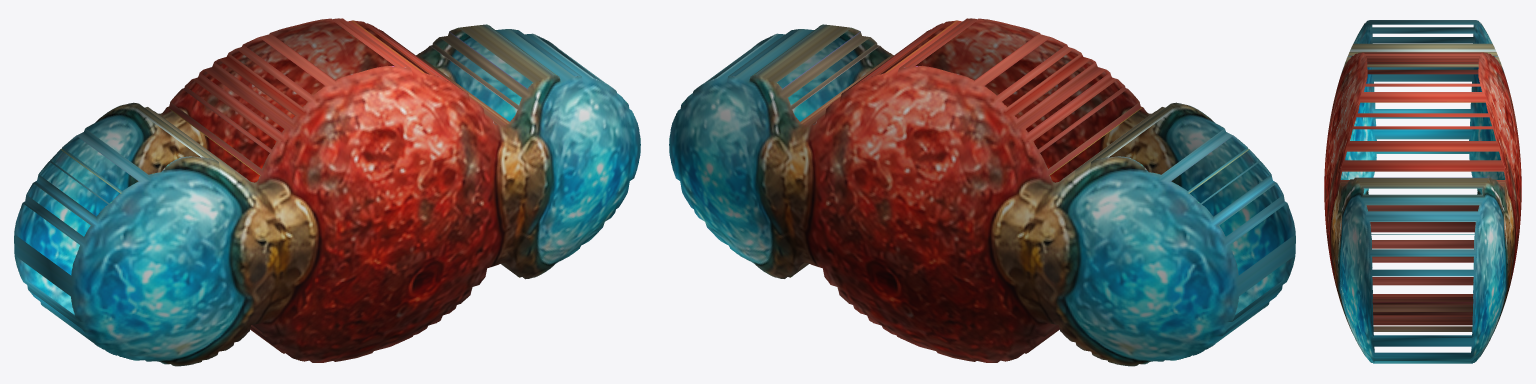
3 views of the same model, side by side, from view 1: azimuth 30°, elevation 25°; view 2: azimuth 150°, elevation 25°; view 3: azimuth 270°, elevation 25° (orthographic). The views are drawn at different scales.
Parts seen in each view (by area): view 1: matter:2; view 2: matter:2; view 3: matter:2.
Part boxes in pixels (<box>): matter:2: <box>14,18,640,366</box>; matter:2: <box>669,18,1295,366</box>; matter:2: <box>1324,20,1521,363</box>.
Bounding box in the file's own units: 1.92 × 0.9444 × 0.66.
Materials: 1 (1 with a texture image).
